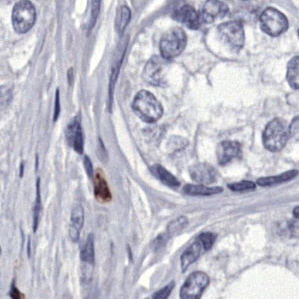Lymphocyte: (90, 169, 114, 204)
